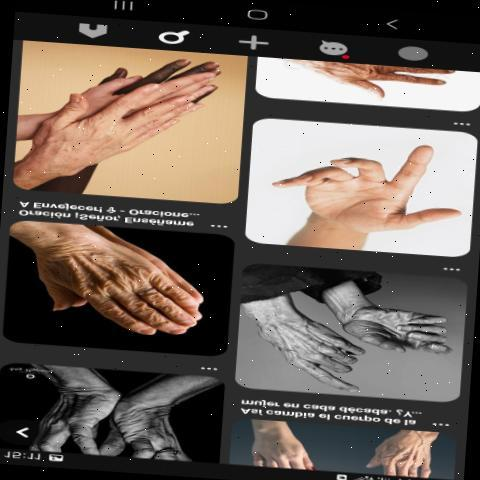Hands: (269, 140, 468, 237), (35, 238, 214, 344), (19, 88, 203, 186), (253, 310, 382, 391), (345, 291, 460, 353)
